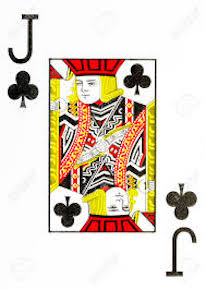JackOfClubs: (2, 1, 205, 290)
